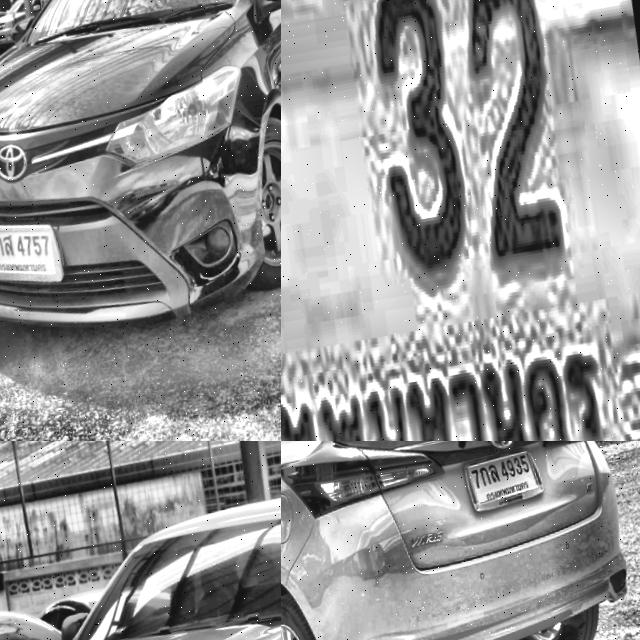license-plate: (281, 0, 640, 441), (462, 441, 554, 517), (0, 209, 75, 297)
